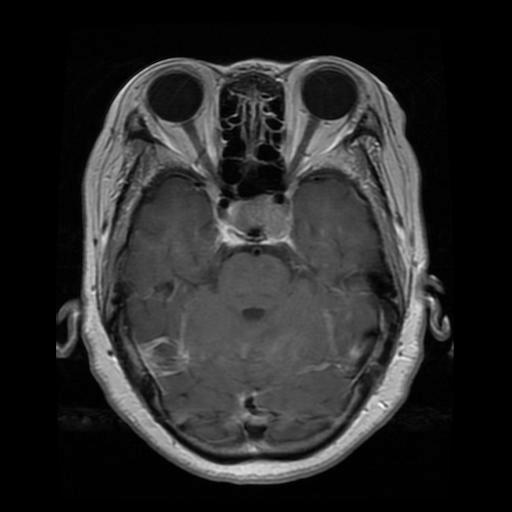Tumour-Pituitary: (215, 193, 297, 251)
